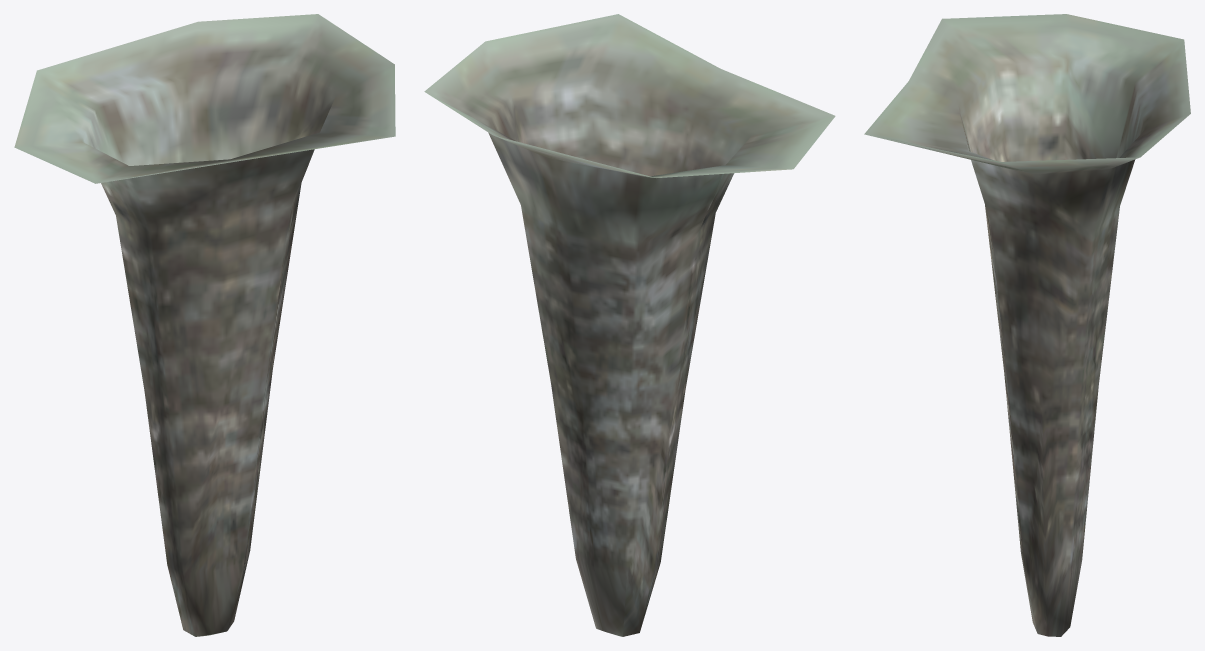
The model's file is TROLLHOLE02_PS-MAINSTALAG82.fbx.
3 views of the same model, side by side, from view 1: azimuth 30°, elevation 25°; view 2: azimuth 150°, elevation 25°; view 3: azimuth 270°, elevation 25° (orthographic). The views are drawn at different scales.
Parts seen in each view (by area): view 1: TROLLHOLE02_PS-MAINSTALAG82; view 2: TROLLHOLE02_PS-MAINSTALAG82; view 3: TROLLHOLE02_PS-MAINSTALAG82.
Part boxes in pixels (x1,y1,x2,y2): TROLLHOLE02_PS-MAINSTALAG82: (14,14,395,636); TROLLHOLE02_PS-MAINSTALAG82: (424,14,835,636); TROLLHOLE02_PS-MAINSTALAG82: (864,14,1190,636).
Size of the model in its own units: 23026 by 34883 by 18699.
Materials: 1 (1 with a texture image).
